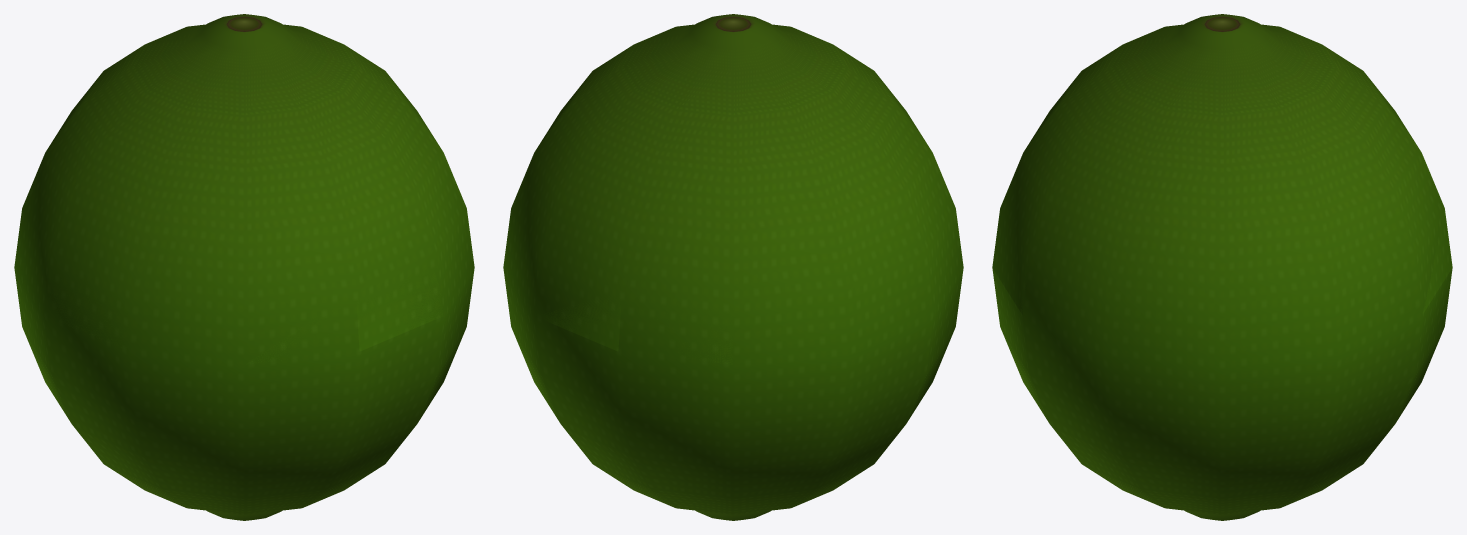
Rendered from Lime.fbx.
3 views of the same model, side by side, from view 1: azimuth 30°, elevation 25°; view 2: azimuth 150°, elevation 25°; view 3: azimuth 270°, elevation 25° (orthographic).
Parts seen in each view (by area): view 1: Lime_Whole, Lime_Half_Top; view 2: Lime_Whole, Lime_Half_Top; view 3: Lime_Whole, Lime_Half_Top.
Part boxes in pixels (x1,y1,x2,y2): Lime_Whole: [14, 14, 474, 520]; Lime_Half_Top: [46, 257, 442, 364]; Lime_Whole: [503, 14, 963, 520]; Lime_Half_Top: [536, 290, 732, 364]; Lime_Whole: [992, 14, 1452, 520]; Lime_Half_Top: [992, 208, 1452, 314].
Bounding box in the file's own units: 1.57 × 1.86 × 1.57.
